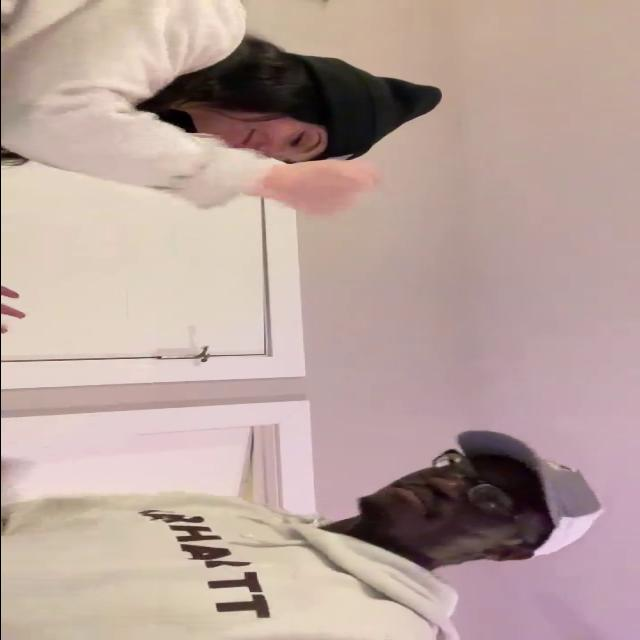Rock: (264, 160, 378, 216)
